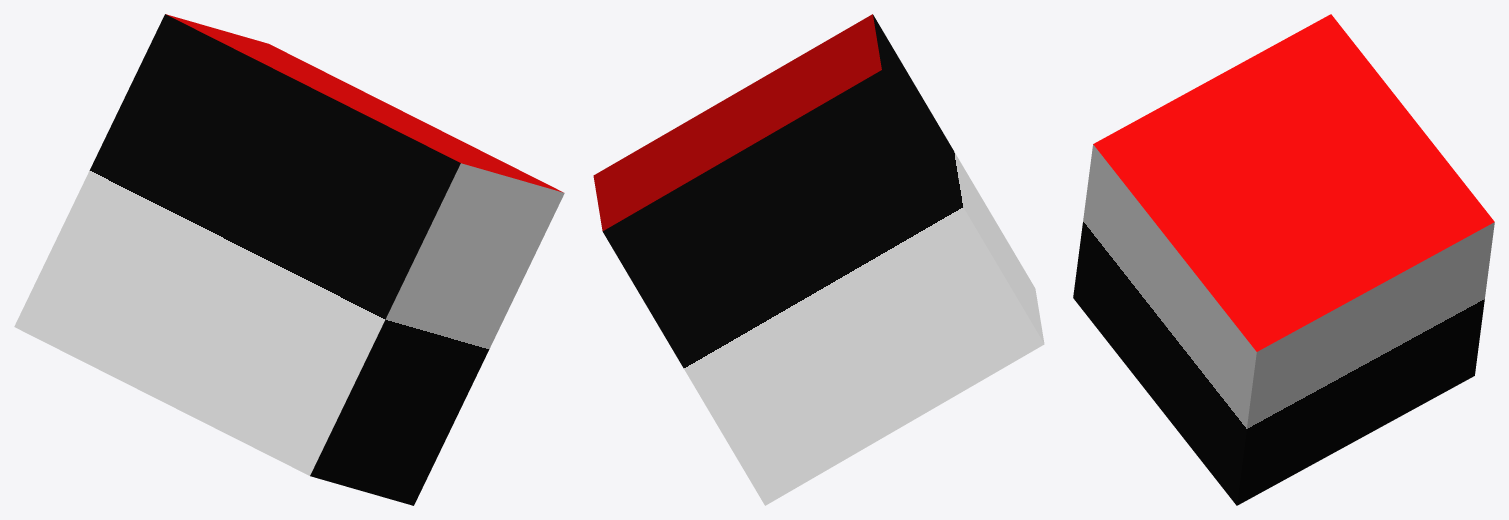
Rendered from export_options.out_no_normals.glb.
The picture shows the model from 3 angles, left to right: view 1: azimuth 30°, elevation 25°; view 2: azimuth 150°, elevation 25°; view 3: azimuth 270°, elevation 25°; orthographic projection. The views are drawn at different scales.
Parts seen in each view (by area): view 1: Cube; view 2: Cube; view 3: Cube.
Boxes of the visible parts, <box> form: Cube: <box>14,14,564,505</box>; Cube: <box>593,14,1044,505</box>; Cube: <box>1073,14,1494,505</box>.
Bounding box in the file's own units: 3.44 × 3.15 × 2.91.
Materials: 2 (1 with a texture image).
